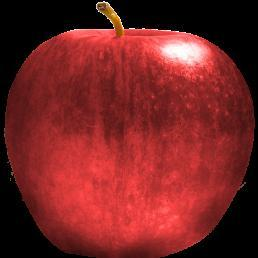apple: (7, 20, 253, 257)
